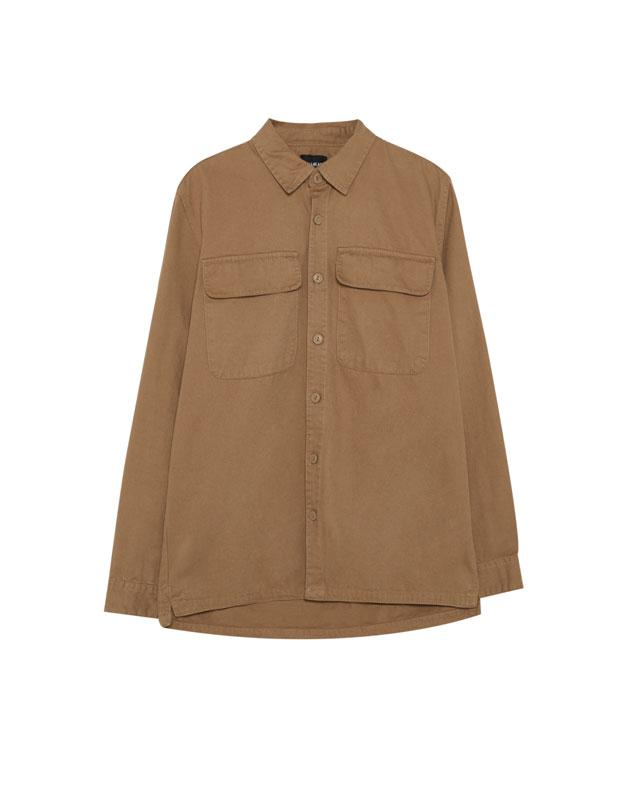teeshirt: (102, 118, 528, 636)
